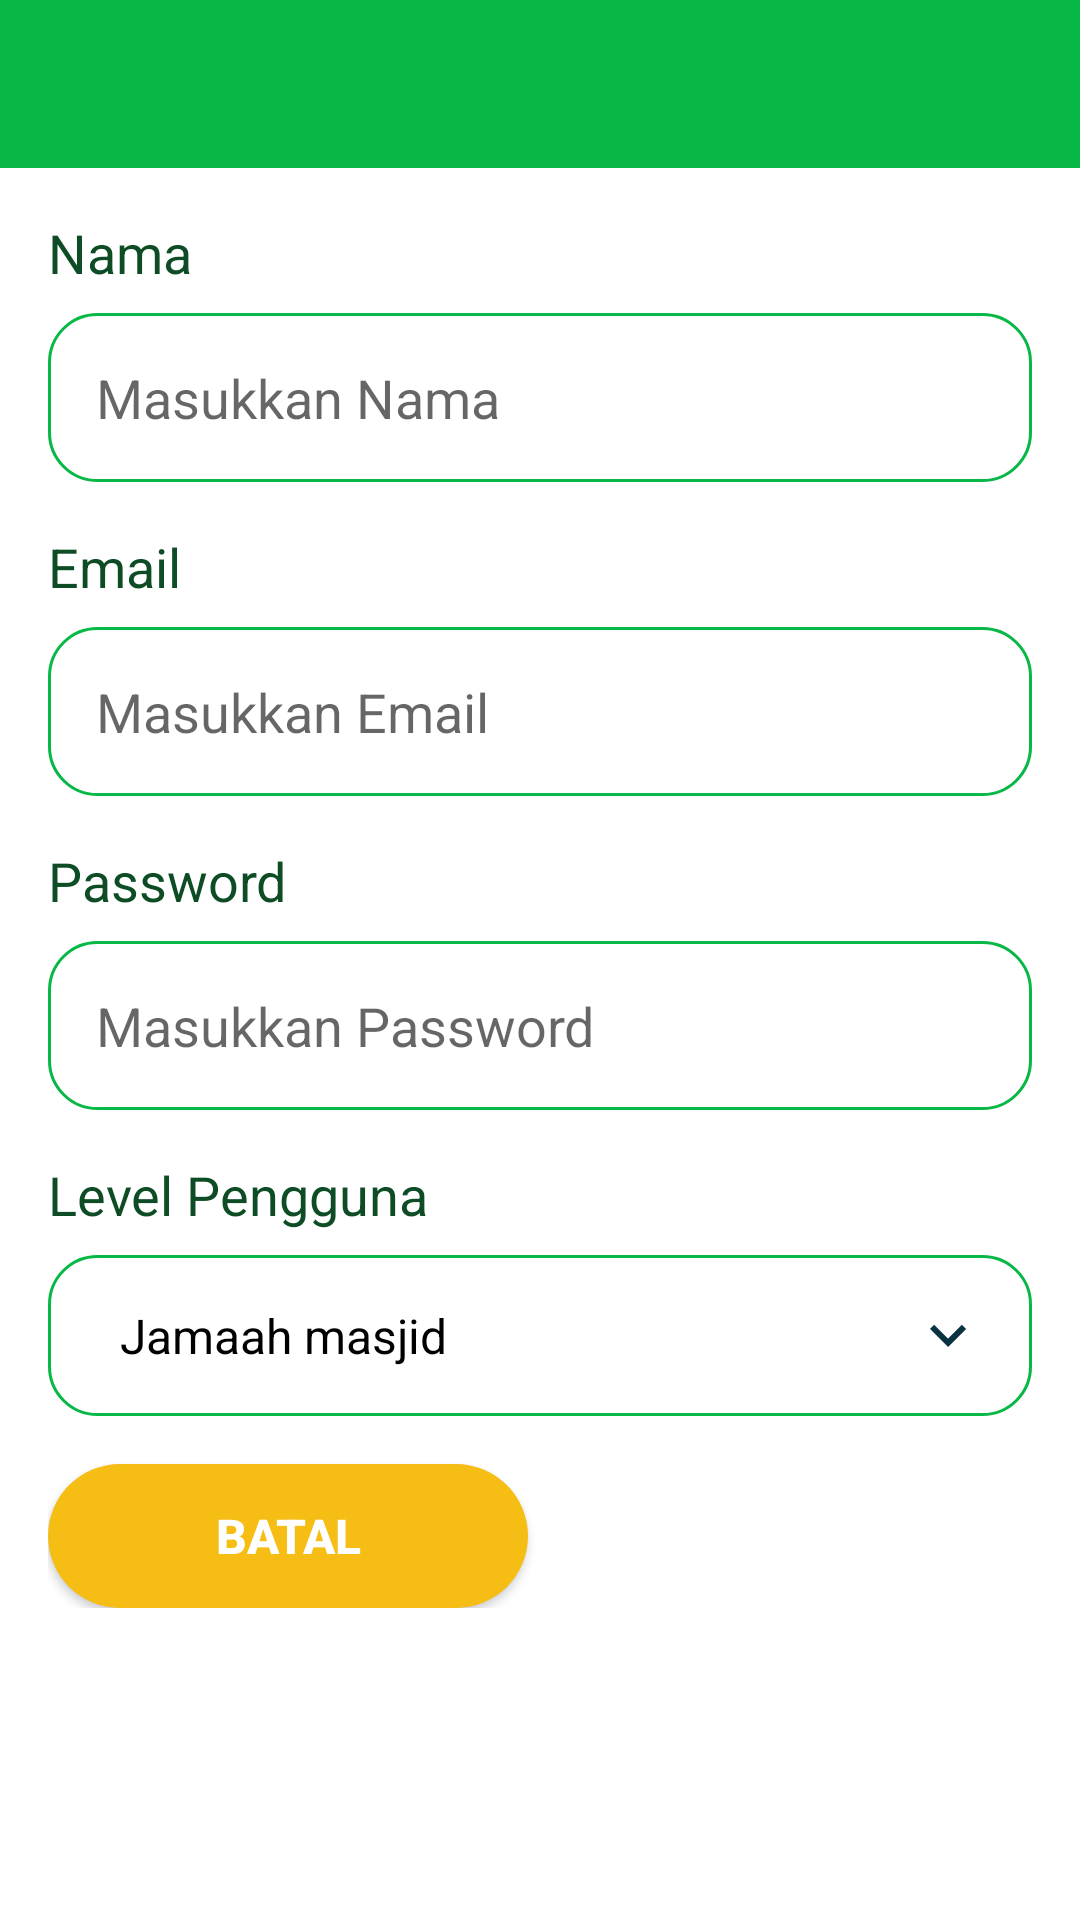

Icons on this 1080px×1920px Android screen, each with its box as (x1, y1, x2, y2):
arrow down: (930, 1325, 966, 1347)
